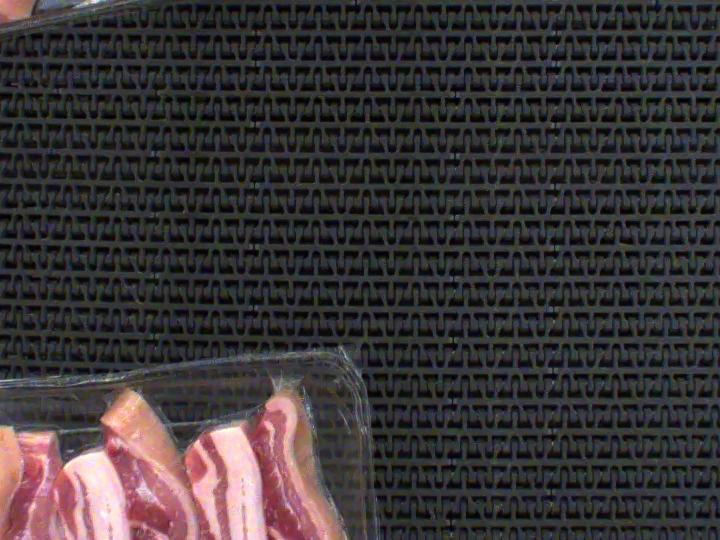unsealed: (0, 382, 348, 504)
